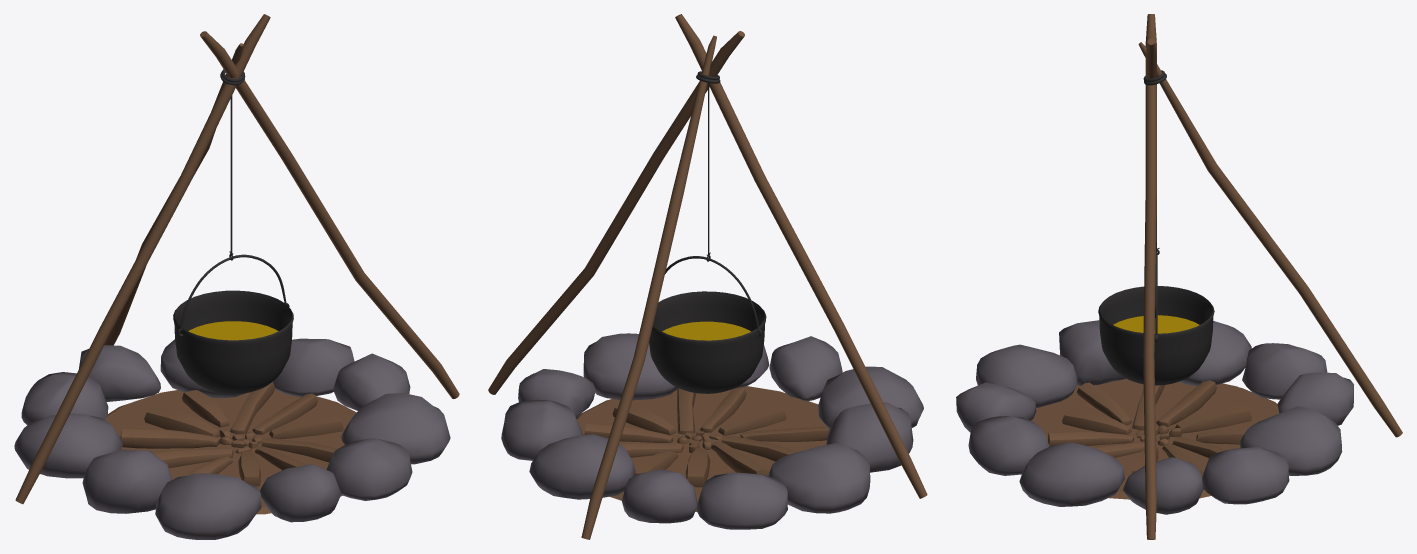
Rendered from campfire.glb.
3 views of the same model, side by side, from view 1: azimuth 30°, elevation 25°; view 2: azimuth 150°, elevation 25°; view 3: azimuth 270°, elevation 25° (orthographic). The views are drawn at different scales.
Parts seen in each view (by area): view 1: Rocks, woods_and_ground, utensil_and_rope, Circle; view 2: Rocks, woods_and_ground, utensil_and_rope, Circle; view 3: Rocks, woods_and_ground, utensil_and_rope, Circle.
Boxes of the visible parts, <box> form: Rocks: <box>14,338,450,539</box>; woods_and_ground: <box>15,14,459,514</box>; utensil_and_rope: <box>173,69,293,394</box>; Circle: <box>188,321,278,340</box>; Rocks: <box>501,333,923,529</box>; woods_and_ground: <box>488,14,927,539</box>; utensil_and_rope: <box>649,71,766,393</box>; Circle: <box>662,321,750,340</box>; Rocks: <box>956,320,1353,514</box>; woods_and_ground: <box>1031,14,1402,539</box>; utensil_and_rope: <box>1098,70,1214,385</box>; Circle: <box>1113,315,1199,333</box>.
Bounding box in the file's own units: 4.33 × 4.02 × 3.93.
